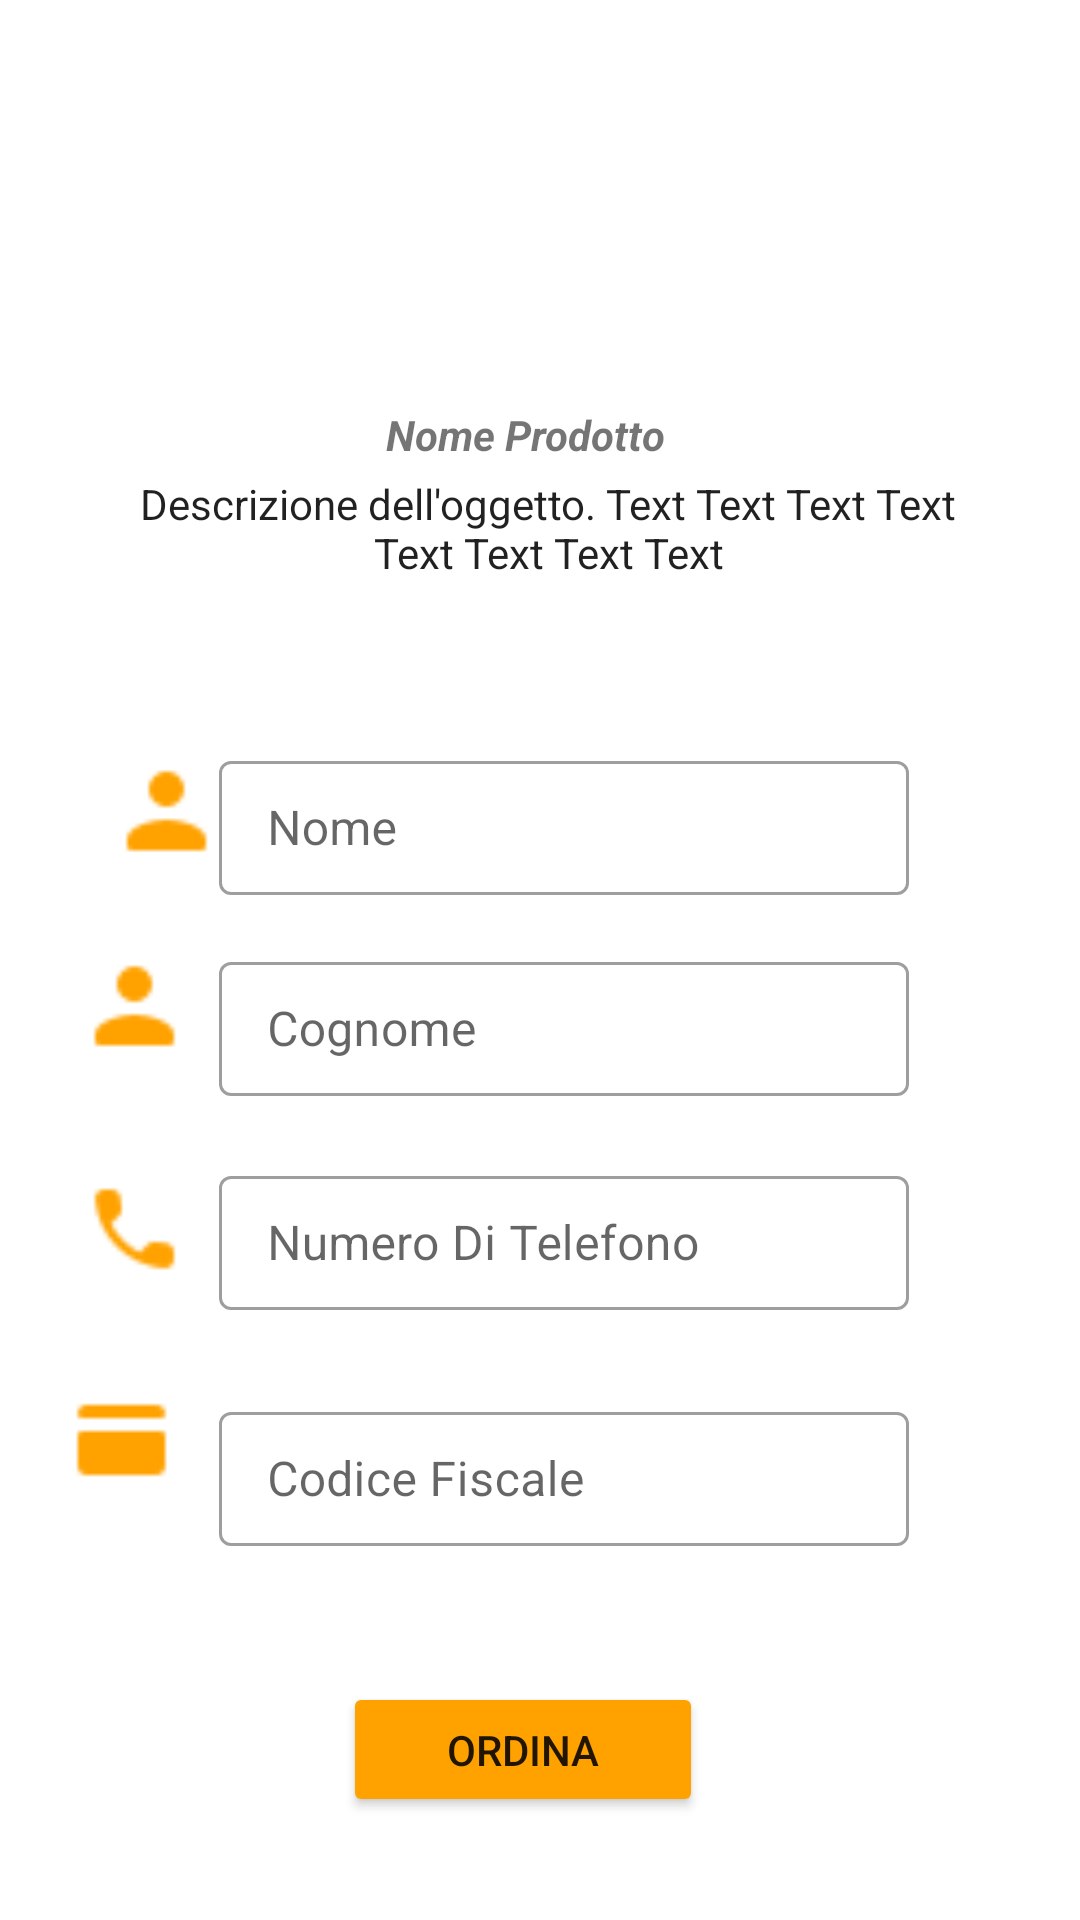

Named icons in this screenshot (1080w x 1920h) and their bounding boxes, detection(x1, y1, x2, y2):
card: detection(76, 1403, 167, 1477)
icona utente: detection(125, 770, 208, 852), detection(93, 965, 176, 1047)
phone: detection(93, 1188, 176, 1270)
